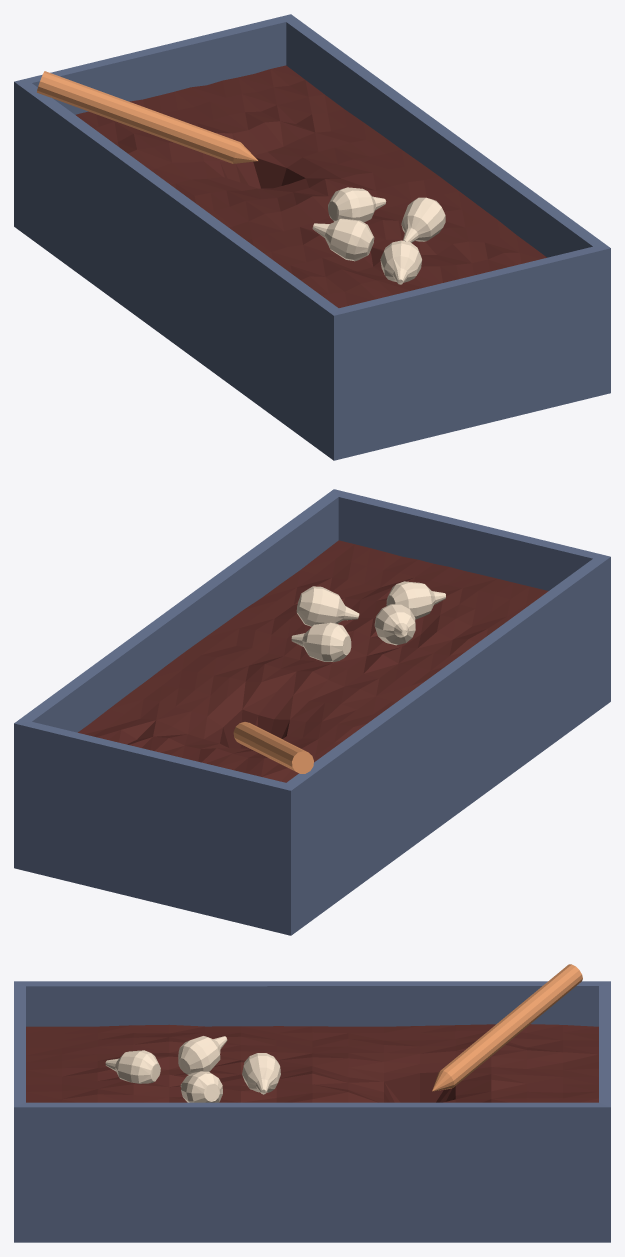
The model's file is planter-box-1.glb.
3 renders of one model, top to bottom at view 1: azimuth 30°, elevation 25°; view 2: azimuth 150°, elevation 25°; view 3: azimuth 270°, elevation 25°, orthographic. The views are drawn at different scales.
Parts seen in each view (by area): view 1: Cube.001, Cylinder.009, Cylinder.006, Cylinder.008, Cylinder.007, Cylinder.005; view 2: Cube.001, Cylinder.009, Cylinder.008, Cylinder.007, Cylinder.006, Cylinder.005; view 3: Cube.001, Cylinder.009, Cylinder.006, Cylinder.005, Cylinder.007, Cylinder.008.
Part boxes in pixels (x1,y1,x2,y2): Cube.001: (14, 14, 610, 460); Cylinder.009: (37, 71, 258, 163); Cylinder.006: (312, 218, 374, 261); Cylinder.008: (401, 197, 445, 242); Cylinder.007: (328, 187, 386, 222); Cylinder.005: (380, 240, 421, 284); Cube.001: (14, 489, 610, 935); Cylinder.009: (233, 722, 313, 773); Cylinder.008: (296, 586, 359, 626); Cylinder.007: (291, 622, 351, 661); Cylinder.006: (374, 604, 415, 645); Cylinder.005: (386, 581, 445, 619); Cube.001: (14, 981, 610, 1242); Cylinder.009: (432, 964, 582, 1091); Cylinder.006: (178, 1036, 227, 1074); Cylinder.005: (105, 1050, 160, 1083); Cylinder.007: (242, 1053, 280, 1094); Cylinder.008: (180, 1071, 222, 1102).
Size of the model in its own units: 2 by 1.15 by 4.
